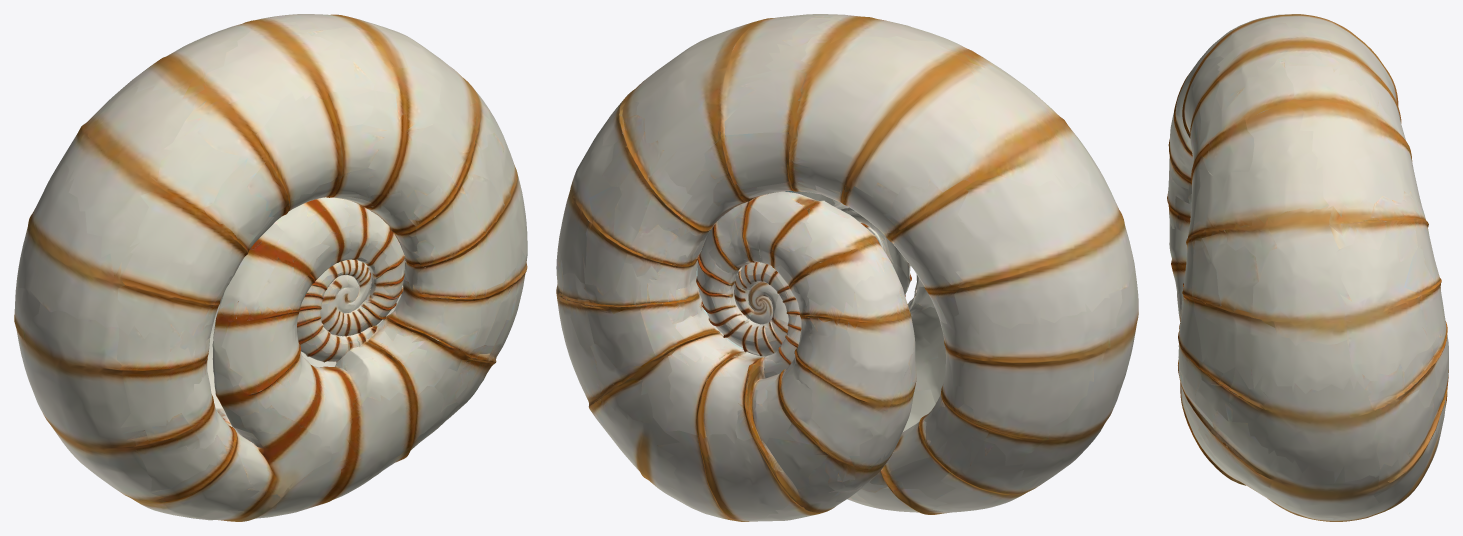
The model's file is nautilus.glb.
3 renders of one model, left to right at view 1: azimuth 30°, elevation 25°; view 2: azimuth 150°, elevation 25°; view 3: azimuth 270°, elevation 25°, orthographic. The views are drawn at different scales.
Size of the model in its own units: 1.9 by 1.69 by 1.
1 material, 1 textured.
